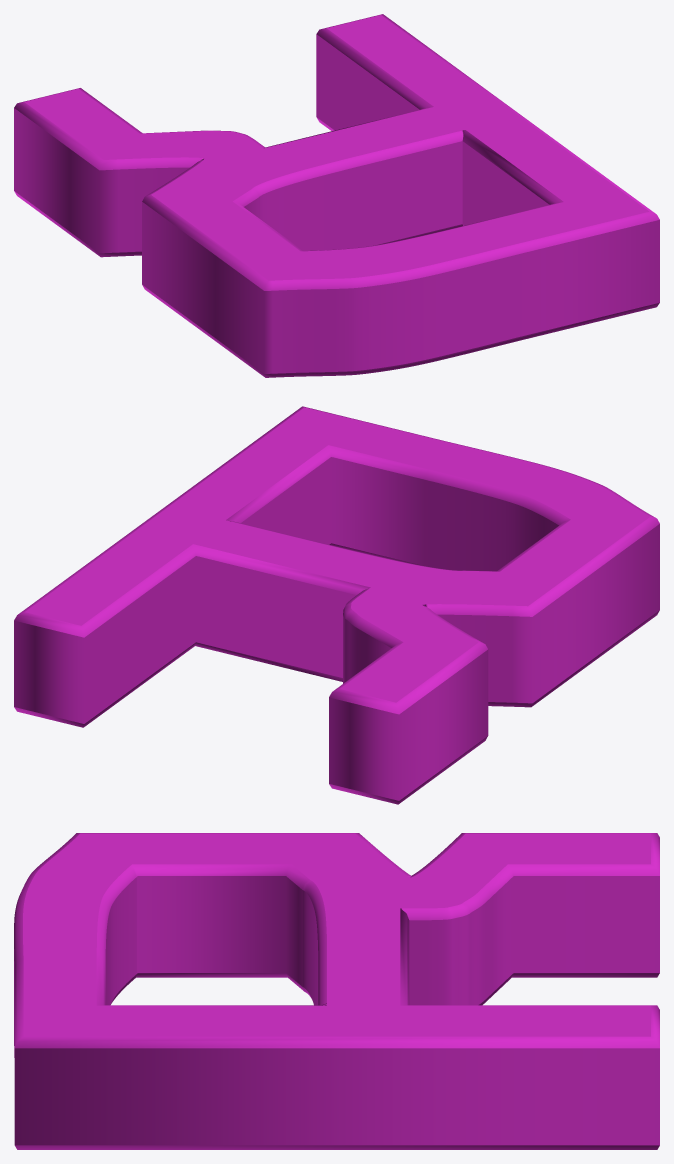
Rendered from Letter_R_Capital_CoolFont.fbx.
3 views of the same model, one above another, from view 1: azimuth 30°, elevation 25°; view 2: azimuth 150°, elevation 25°; view 3: azimuth 270°, elevation 25° (orthographic). The views are drawn at different scales.
Visible parts, largest first — view 1: Letter_R; view 2: Letter_R; view 3: Letter_R.
Part boxes in pixels (<box>): Letter_R: <box>14,14,659,377</box>; Letter_R: <box>14,406,659,804</box>; Letter_R: <box>14,833,659,1149</box>.
Size of the model in its own units: 0.5599 by 0.14 by 0.7249.
